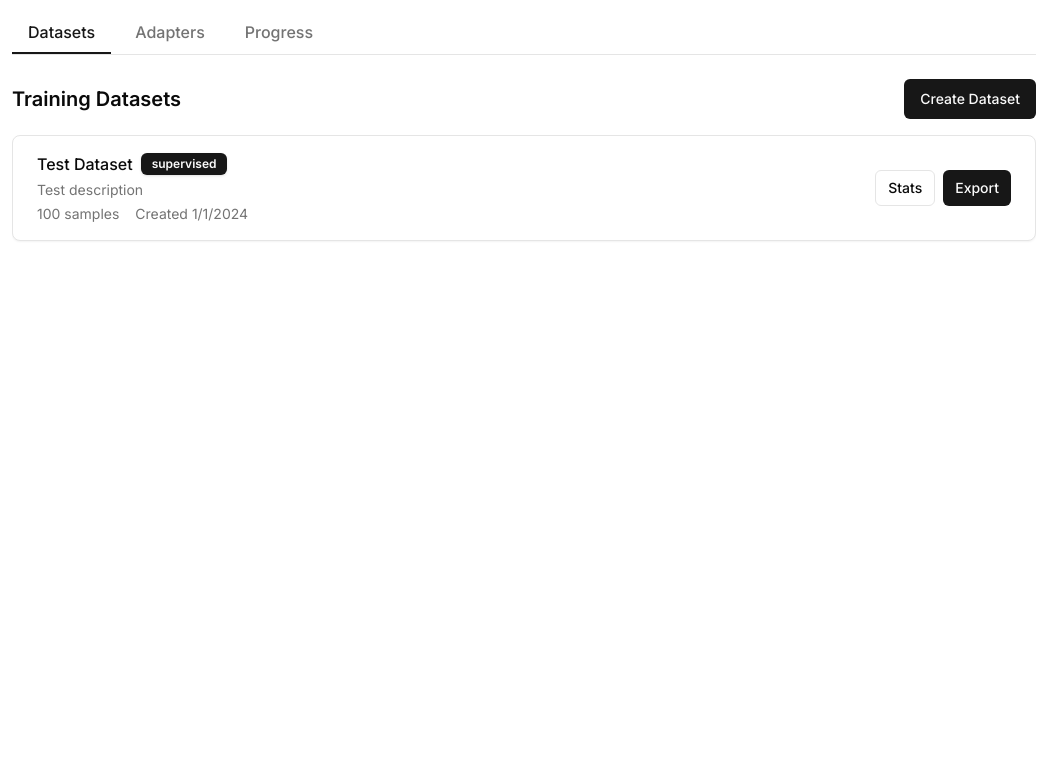
Test: TrainingDashboard › switches to progress tab
The image size is (1048, 780).
Click the button "Progress": (279, 33) [229,12,329,54]
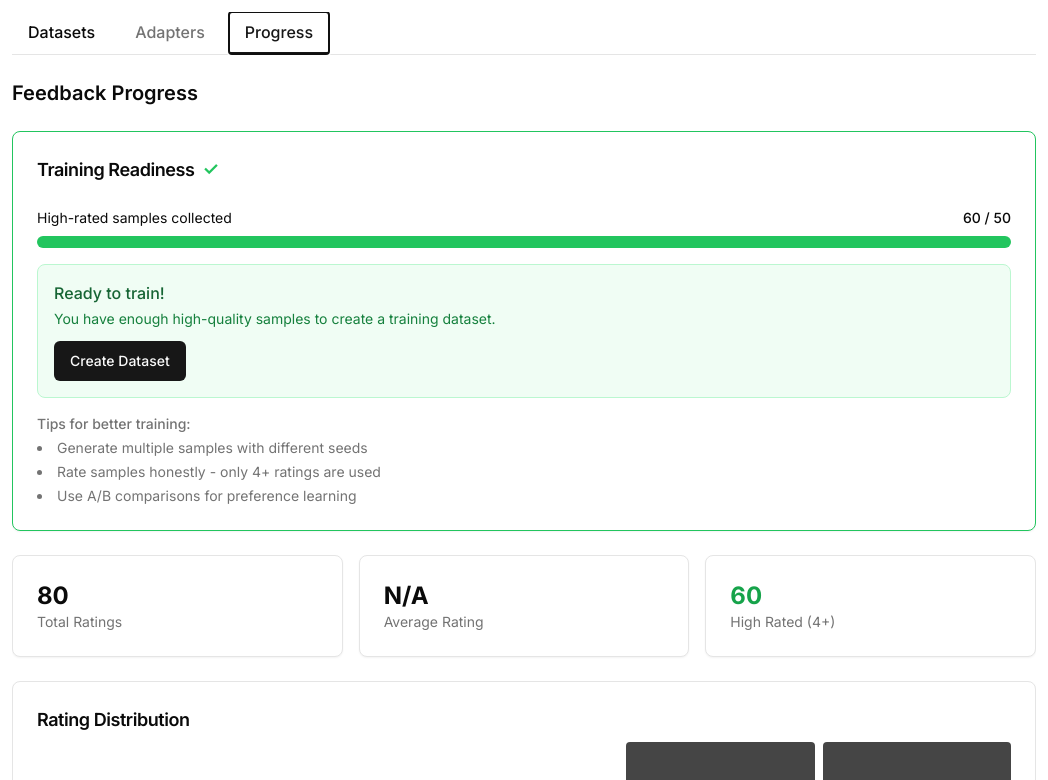
Now the heading "Feedback Progress" is shown, box [12,81,198,105]
